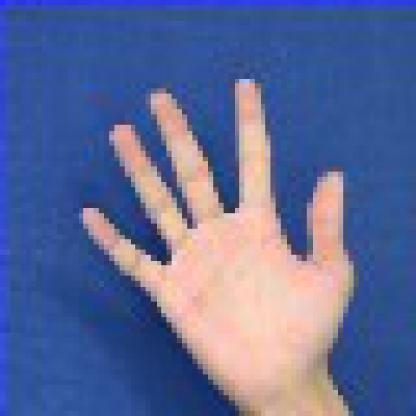five: (61, 55, 397, 415)
